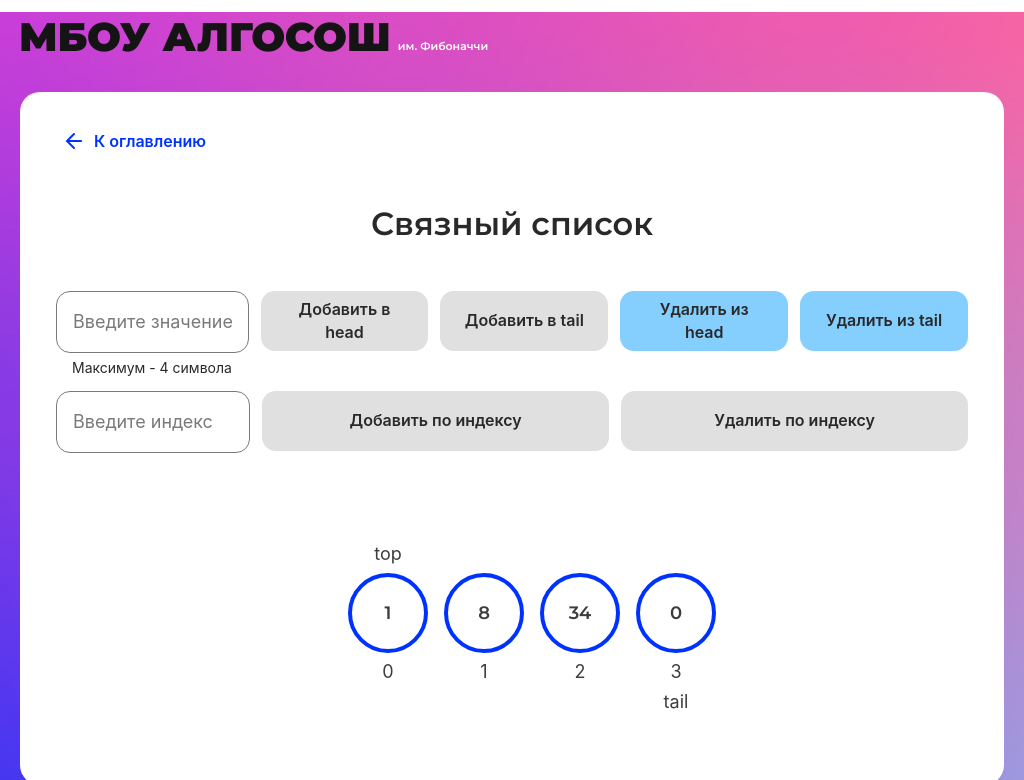
Scenario: list tests › correctness of adding an element to the tail
The width and height of the screenshot is (1024, 780).
Type "33" into the field with test id "list-input-value" at {"x": 153, "y": 322}, box 56,291 -> 249,353
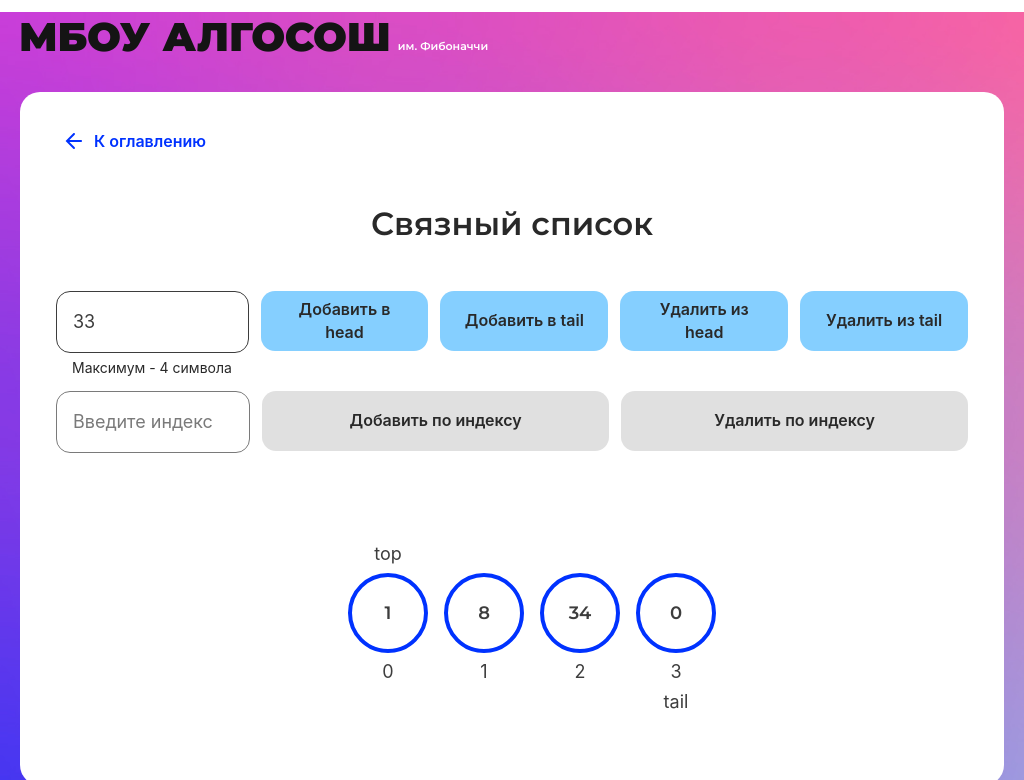
Expected: the element with test id "add-in-tail-btn" is enabled
Click the button with test id "add-in-tail-btn" at {"x": 524, "y": 321}, box 440,291 -> 608,351
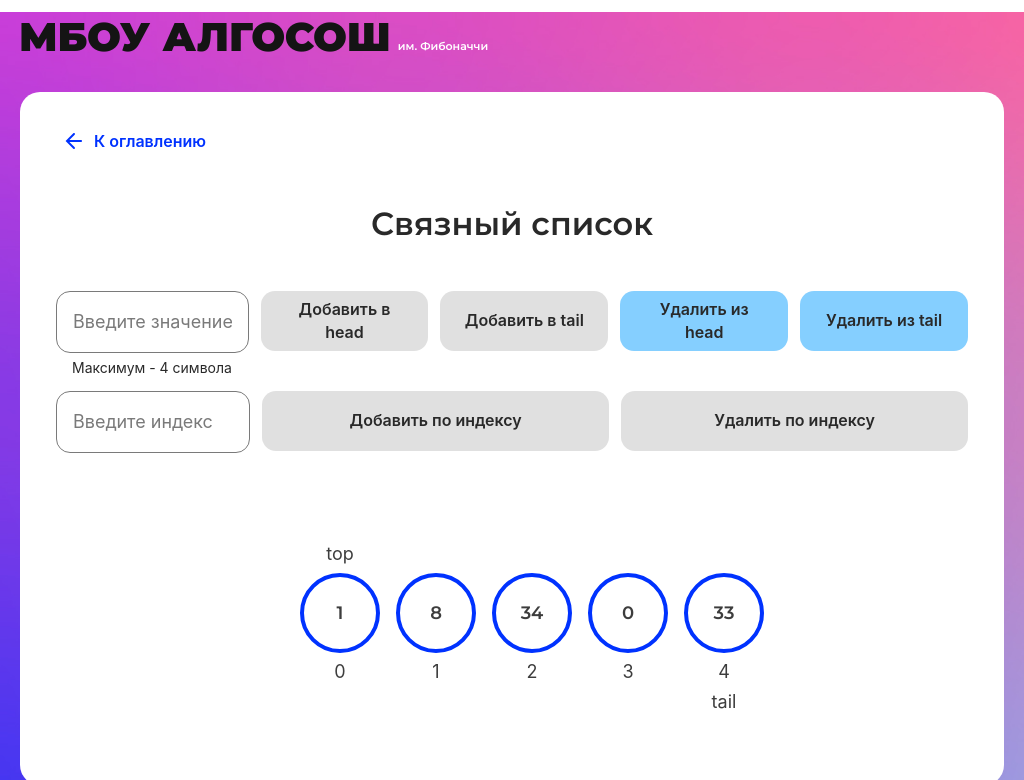
Expected: the text with test id "circle-head" reads "top", 326,543 -> 354,565
Expected: the element with test id "circle" reads "33", 684,573 -> 764,653
